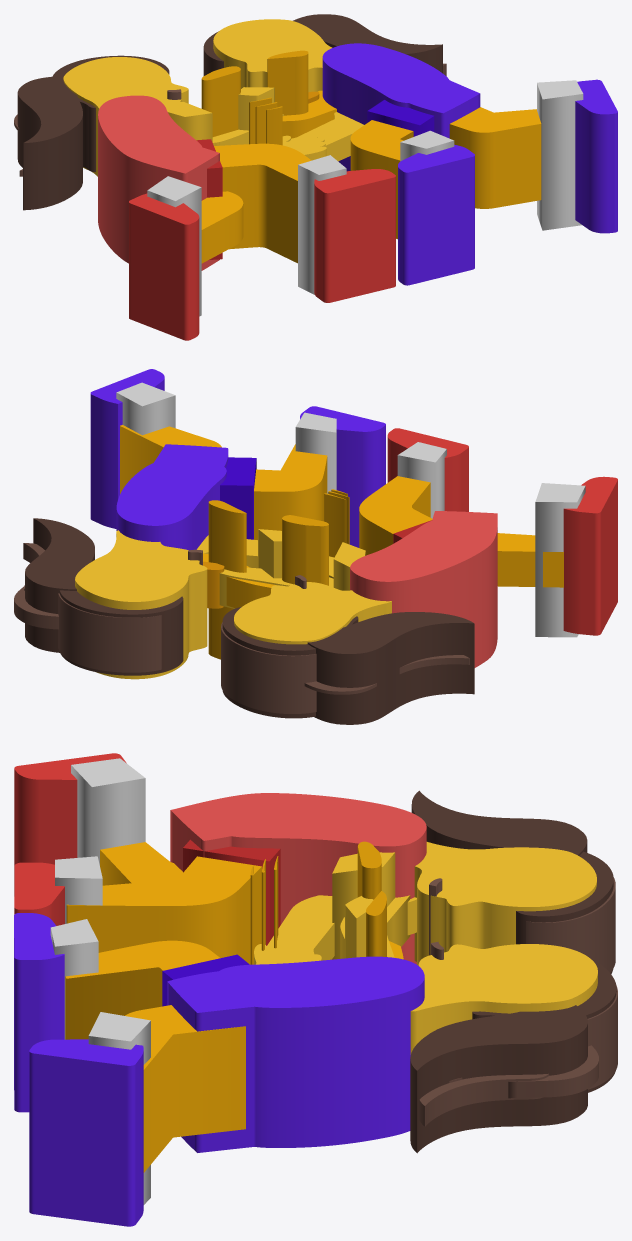
The model's file is emoji_u1f93c_200d_2640.glb.
3 renders of one model, top to bottom at view 1: azimuth 30°, elevation 25°; view 2: azimuth 150°, elevation 25°; view 3: azimuth 270°, elevation 25°, orthographic. The views are drawn at different scales.
Parts seen in each view (by area): view 1: emoji_u1f93c_200d_2640; view 2: emoji_u1f93c_200d_2640; view 3: emoji_u1f93c_200d_2640.
Boxes of the visible parts, x1,y1,x2,y2 form: emoji_u1f93c_200d_2640: [14, 14, 617, 340]; emoji_u1f93c_200d_2640: [14, 369, 617, 724]; emoji_u1f93c_200d_2640: [14, 753, 617, 1226].
Bounding box in the file's own units: 0.0327 × 0.0096 × 0.0266.
